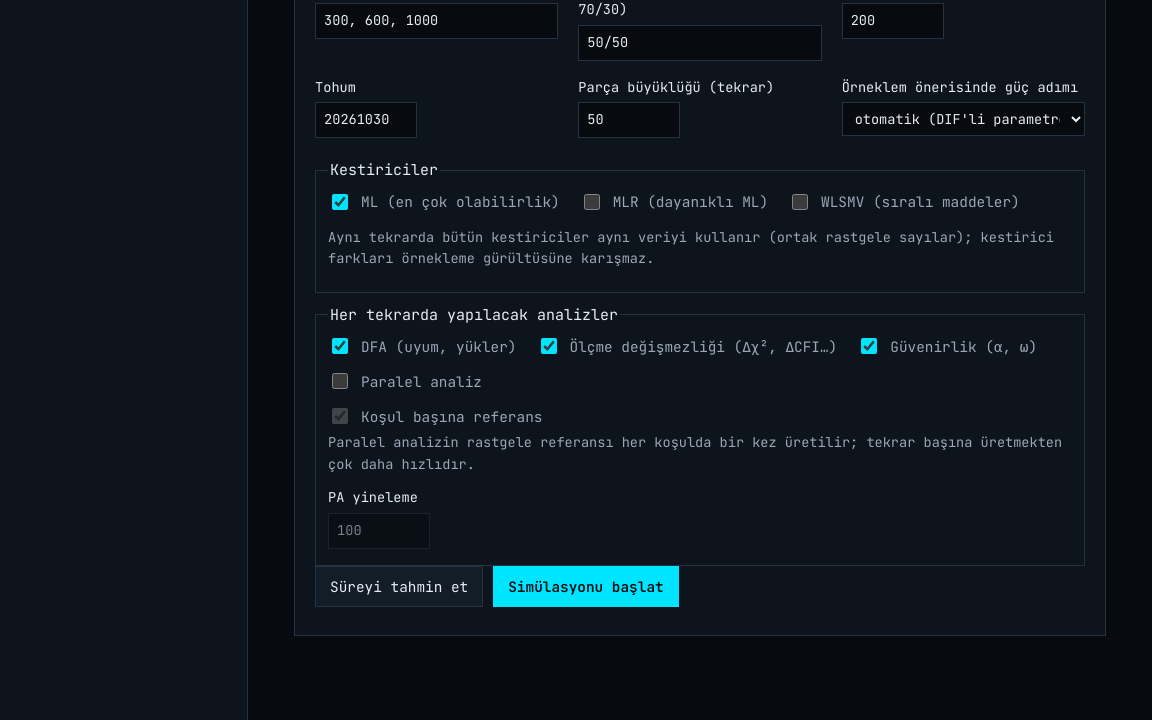
Test: M9 simülasyon sayfası › kalıcı SİMÜLASYON etiketi; başlangıç tanımı ve süre tahmini R metniyle
The width and height of the screenshot is (1152, 720).
(page scrolled)
Click the button "Süreyi tahmin et" at (399, 586), box [315, 566, 483, 607]
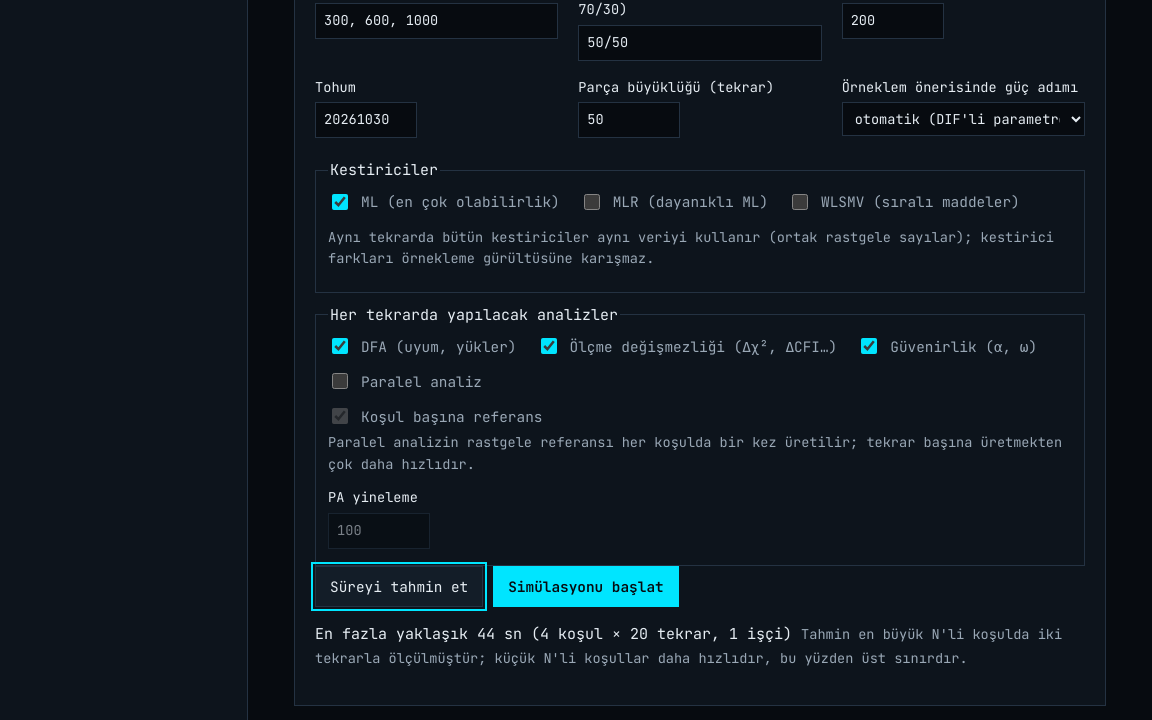
Result: the element with test id "sim-estimate" shows "En fazla yaklaşık 44 sn (4 koşul × 20 tekrar, 1 işçi)" at [315, 624, 792, 644]
